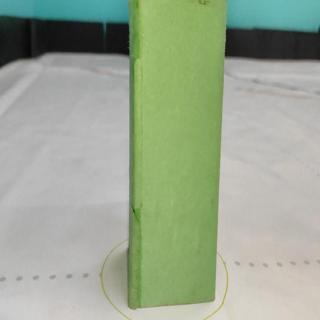greenbox: (127, 0, 228, 309)
